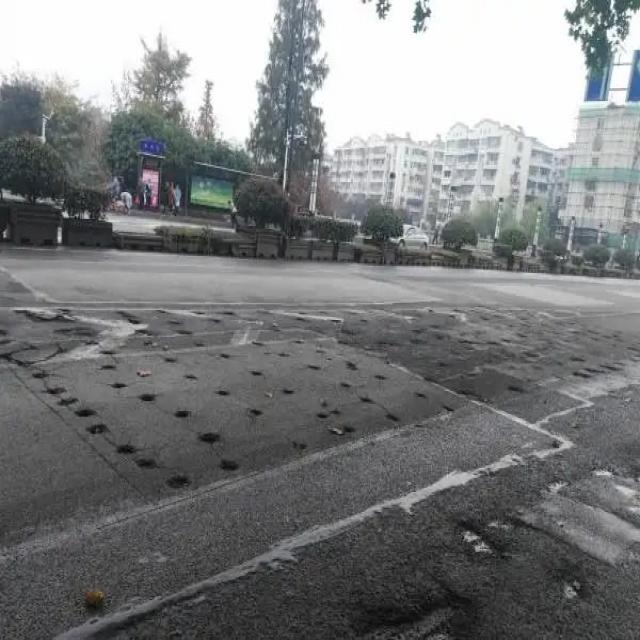Pothole: (303, 303, 492, 427), (461, 519, 502, 565), (550, 573, 596, 609), (163, 471, 189, 492), (193, 428, 223, 445), (283, 436, 309, 454), (135, 456, 156, 478), (133, 385, 154, 407), (209, 378, 230, 400), (170, 405, 192, 424), (502, 381, 520, 403), (238, 402, 264, 417), (222, 457, 241, 475), (569, 372, 593, 386), (110, 438, 133, 451), (84, 421, 105, 434), (158, 351, 177, 364), (182, 368, 198, 382), (46, 386, 66, 396), (96, 360, 115, 370), (74, 408, 92, 418), (134, 327, 152, 337), (30, 368, 49, 377), (109, 377, 125, 387), (99, 347, 115, 356), (85, 338, 102, 346), (60, 397, 74, 405), (140, 339, 154, 347)
